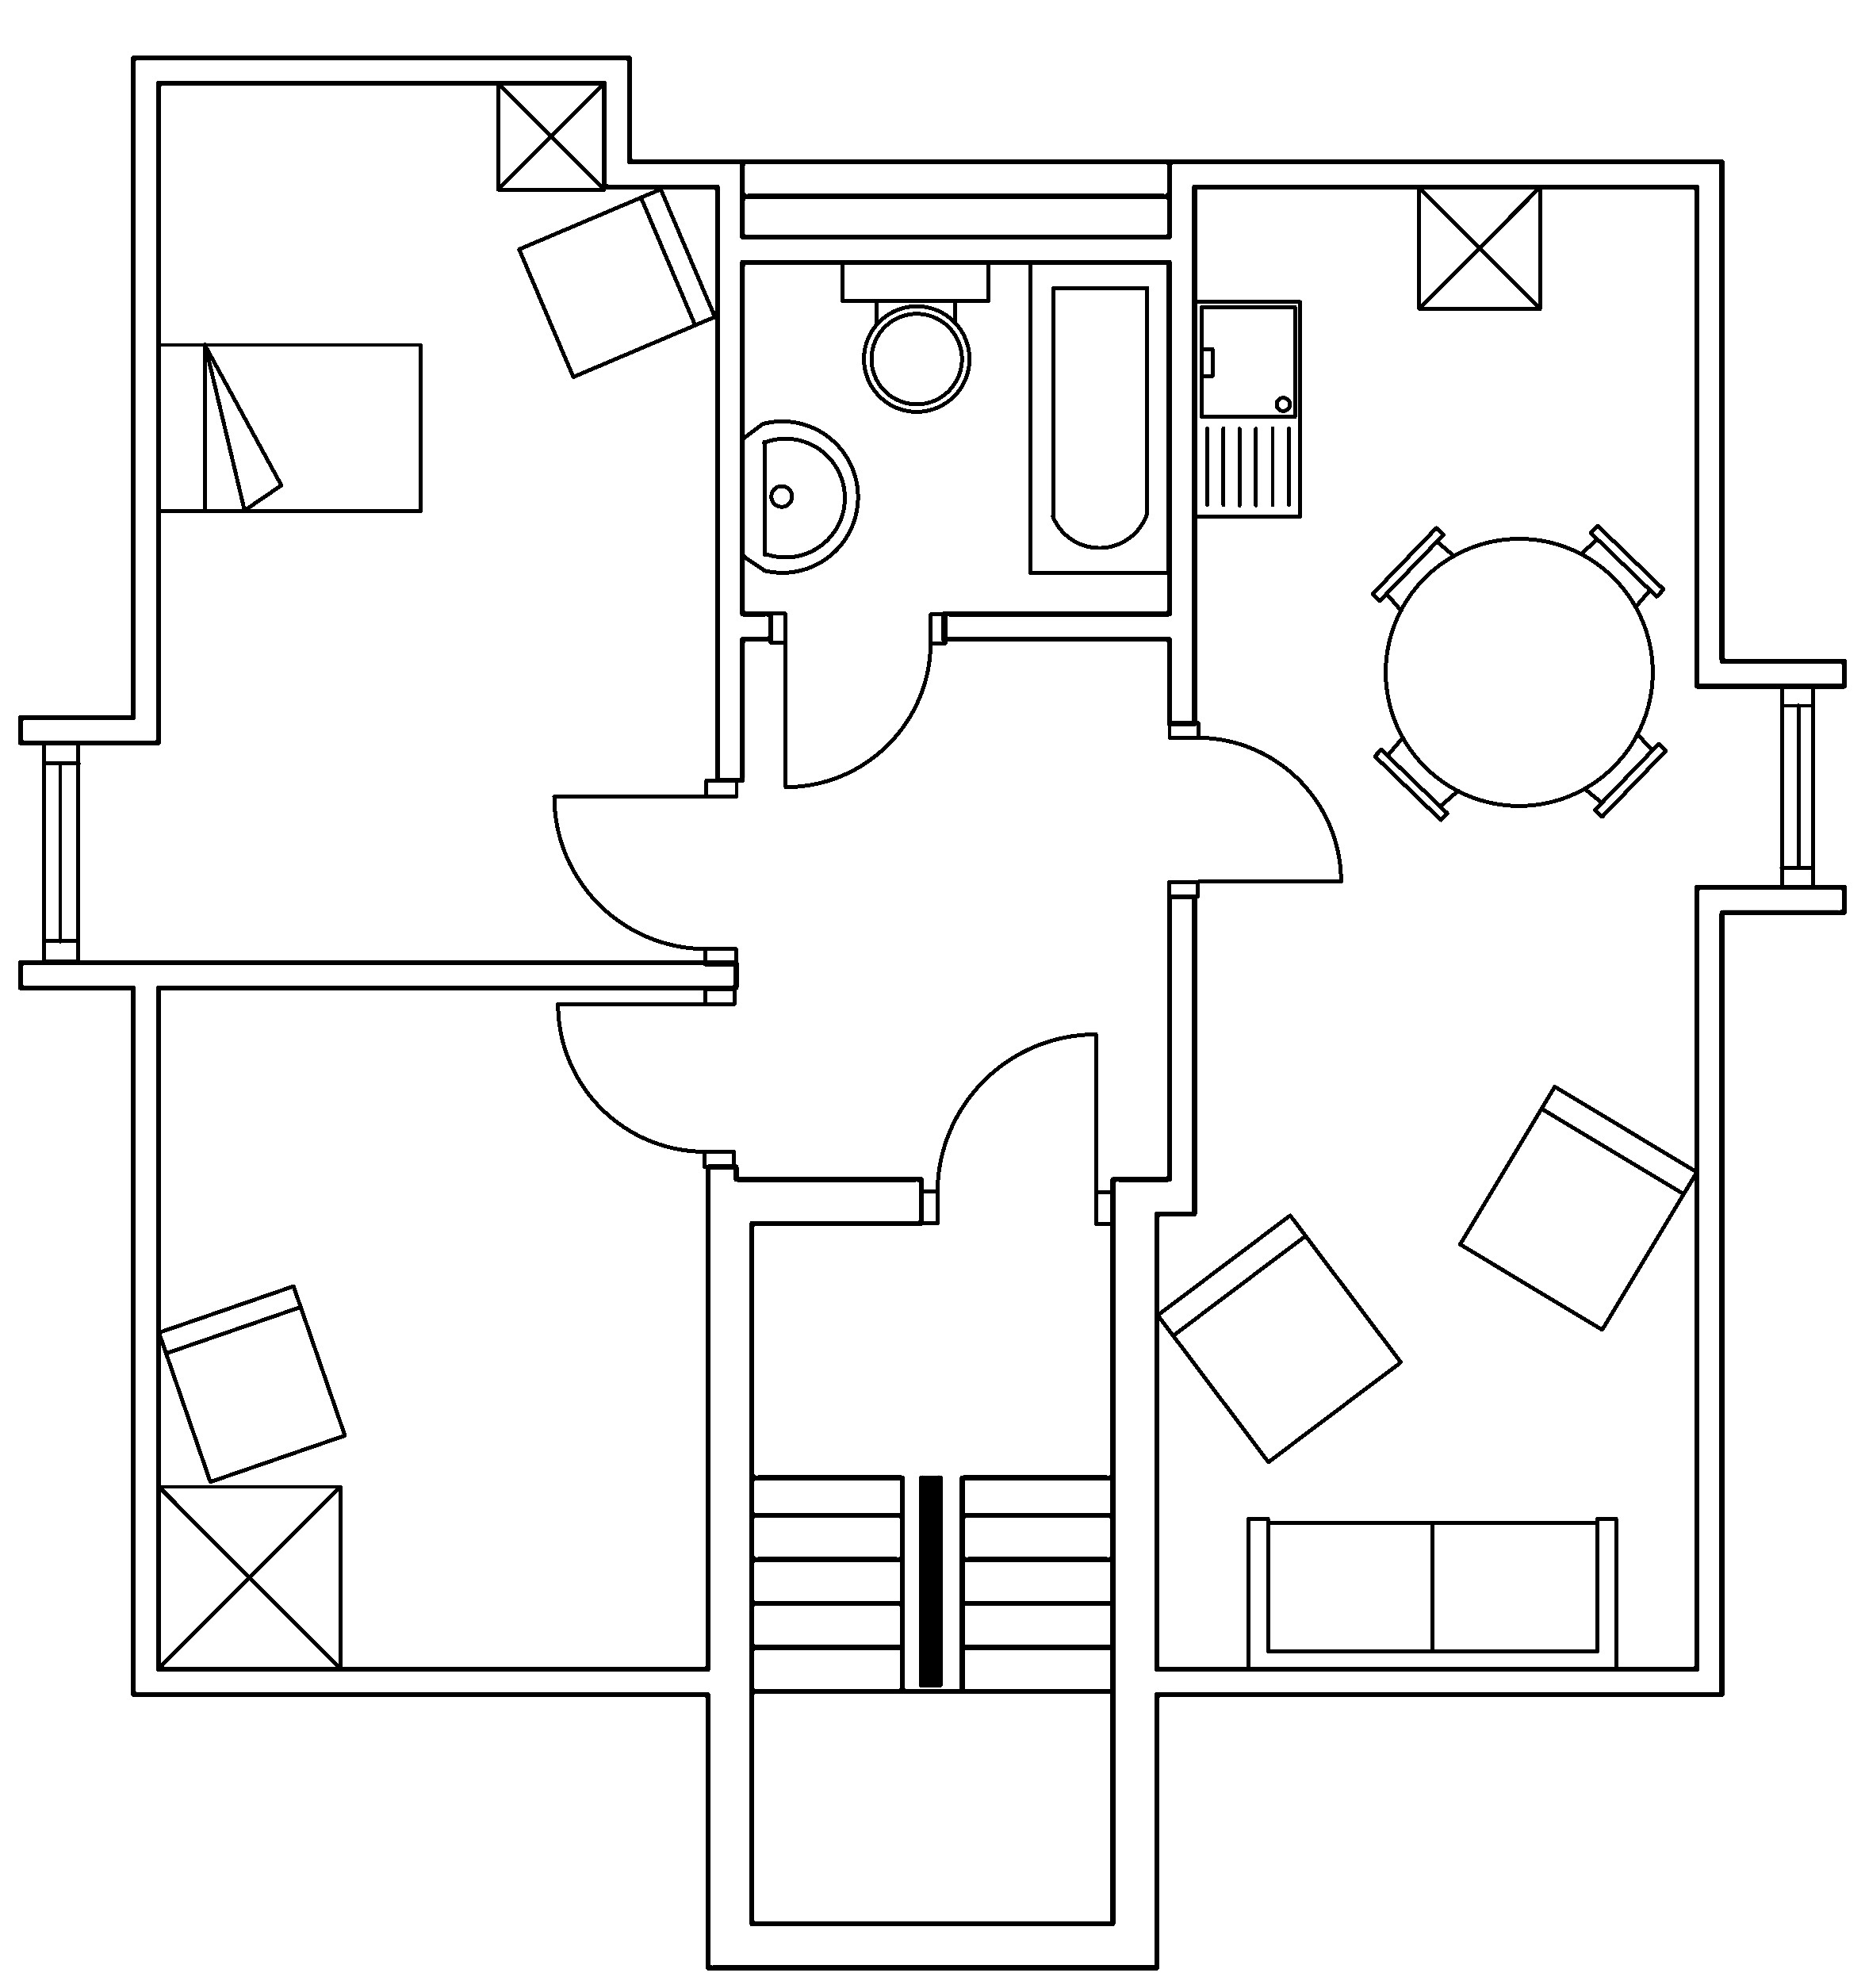bed: (154, 340, 424, 514)
coffee_table: (154, 1481, 342, 1671), (1416, 182, 1542, 310), (494, 79, 606, 191)
large_sink: (840, 258, 990, 412)
large_sofa: (1245, 1515, 1618, 1672)
round_table: (1369, 522, 1669, 822)
sink: (1192, 298, 1302, 519)
small_sink: (740, 419, 859, 573)
small_sofa: (1153, 1211, 1404, 1464), (1457, 1082, 1698, 1332), (515, 186, 717, 379), (156, 1282, 347, 1485)
tub: (1027, 258, 1171, 575)
